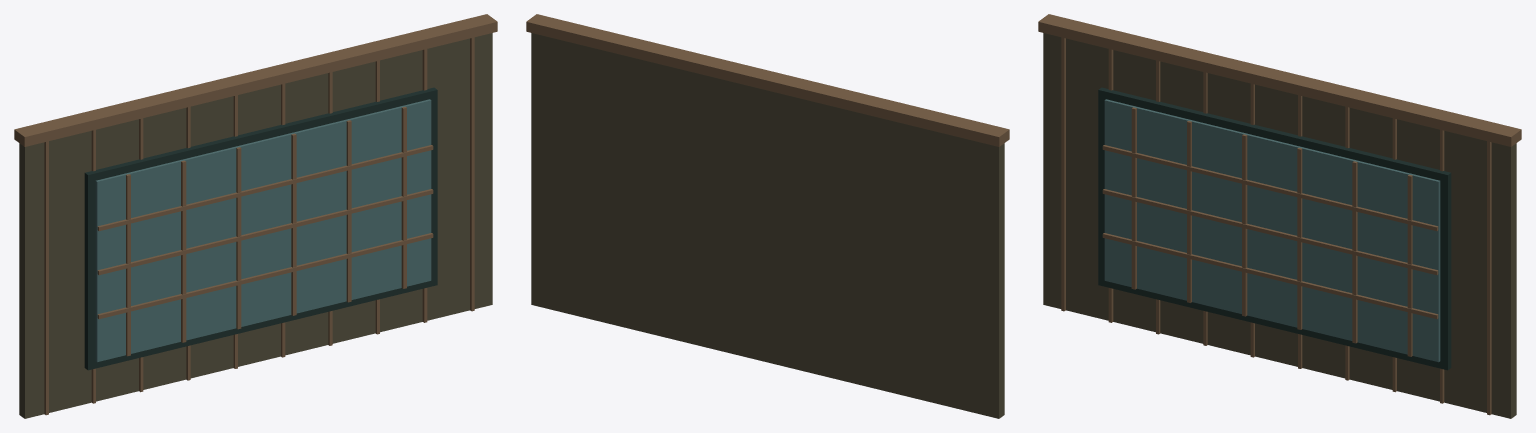
Rendered from longhouse-south-provisional-2026-11-04.glb.
The picture shows the model from 3 angles, left to right: view 1: azimuth 30°, elevation 25°; view 2: azimuth 150°, elevation 25°; view 3: azimuth 330°, elevation 25°; orthographic projection.
Visible parts, largest first — view 1: exterior-detail-building; view 2: exterior-detail-building; view 3: exterior-detail-building.
Boxes of the visible parts, bbox=[...] form: exterior-detail-building: bbox=[14, 14, 497, 418]; exterior-detail-building: bbox=[526, 14, 1009, 418]; exterior-detail-building: bbox=[1038, 14, 1521, 418].
Size of the model in its own units: 9 by 5.17 by 0.51.
